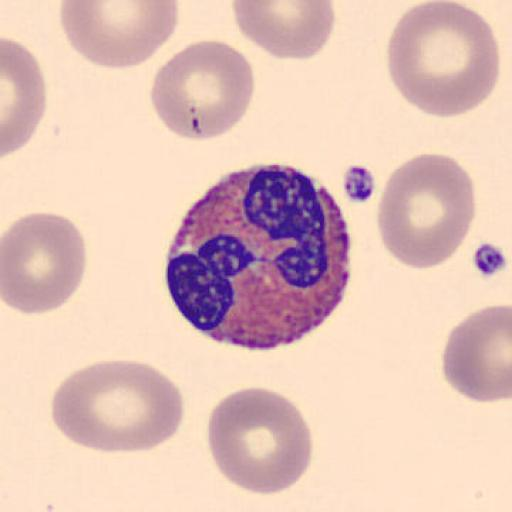RBC: (385, 0, 501, 118), (48, 358, 186, 456), (206, 384, 314, 496), (376, 150, 476, 270), (149, 39, 255, 142), (2, 210, 89, 316), (58, 0, 181, 69), (441, 303, 512, 405), (230, 0, 336, 63), (0, 35, 48, 158)
WBC: (164, 162, 352, 351)
